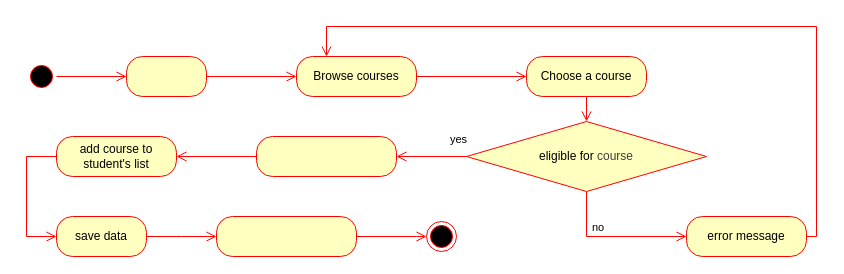
This 844x274 diagram has some shape labels left out. Each missing label, with the box of its shape:
confirmation message: (256, 136, 396, 176)
log in: (126, 56, 206, 96)
show lessons and quizzes: (216, 216, 356, 256)
